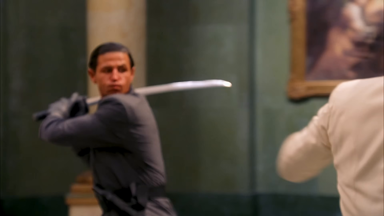bladed_weapon: (31, 93, 99, 124), (134, 77, 234, 97)
